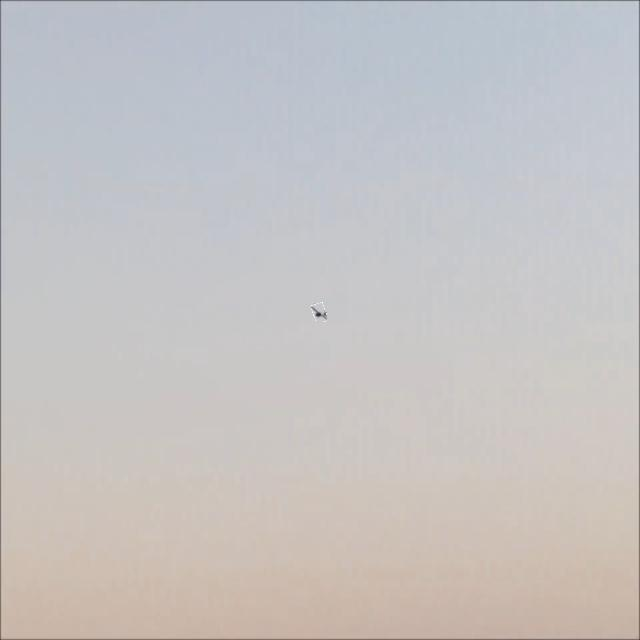UAV: (304, 304, 339, 346)
